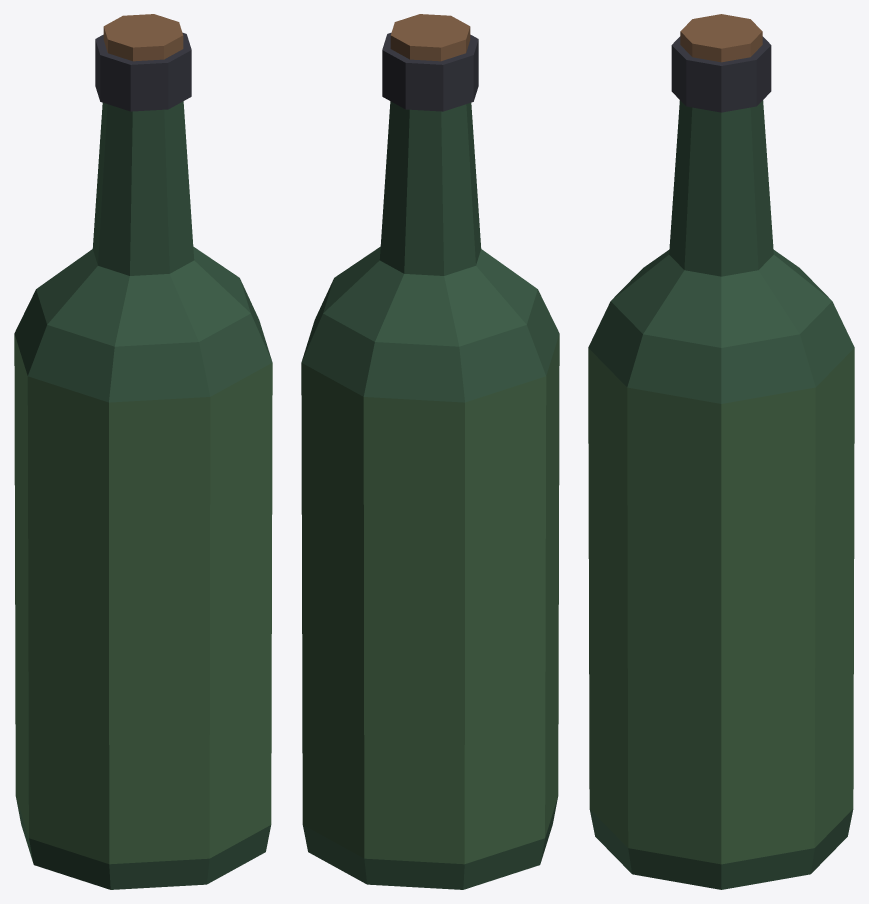
The model's file is garrafa.fbx.
3 views of the same model, side by side, from view 1: azimuth 30°, elevation 25°; view 2: azimuth 150°, elevation 25°; view 3: azimuth 270°, elevation 25° (orthographic).
Visible parts, largest first — view 1: Garrafa; view 2: Garrafa; view 3: Garrafa.
Boxes of the visible parts, x1,y1,x2,y2 form: Garrafa: [14, 14, 272, 889]; Garrafa: [301, 14, 559, 889]; Garrafa: [588, 14, 854, 889].
Bounding box in the file's own units: 9 × 30 × 9.
